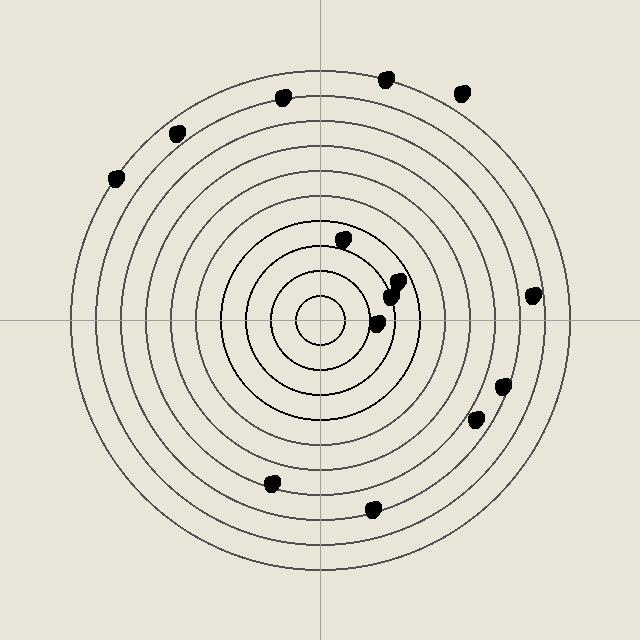random_scatter: (375, 69, 395, 89), (105, 168, 125, 188), (366, 313, 386, 333), (362, 499, 382, 519), (272, 87, 292, 107), (492, 376, 512, 396), (380, 286, 400, 306), (451, 83, 471, 103), (261, 473, 281, 493), (522, 285, 542, 305), (332, 229, 352, 249), (465, 409, 485, 429), (166, 123, 186, 143), (387, 271, 407, 291)
